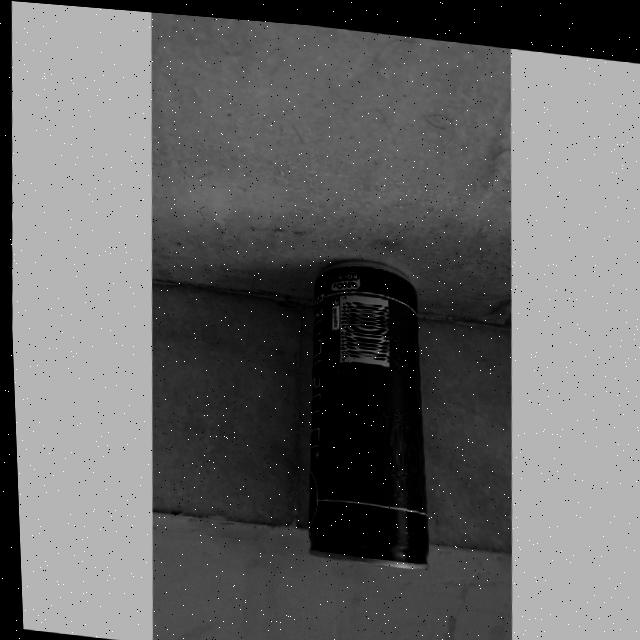Hell Classic: (291, 254, 445, 587)
